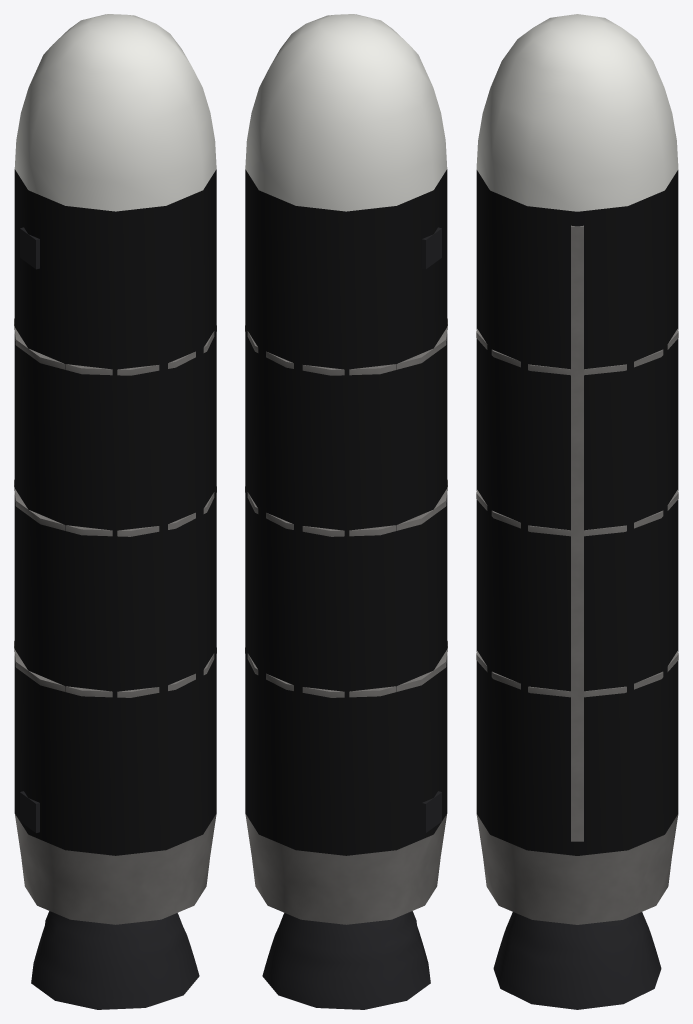
The model's file is prop21_srb_medium_strapon.glb.
3 views of the same model, side by side, from view 1: azimuth 30°, elevation 25°; view 2: azimuth 150°, elevation 25°; view 3: azimuth 270°, elevation 25° (orthographic).
Visible parts, largest first — view 1: case, nose, nozzle, aft_skirt, segment_joints, attach_fittings; view 2: case, nose, nozzle, aft_skirt, segment_joints, attach_fittings; view 3: case, nose, nozzle, aft_skirt, raceway, segment_joints.
Part boxes in pixels (x1,y1,x2,y2): case: (14, 169, 216, 855); nose: (14, 14, 216, 211); nozzle: (31, 911, 199, 1009); aft_skirt: (14, 813, 216, 924); segment_joints: (14, 318, 216, 697); attach_fittings: (20, 227, 39, 832); case: (245, 169, 447, 855); nose: (245, 14, 447, 211); nozzle: (262, 911, 430, 1009); aft_skirt: (245, 813, 447, 924); segment_joints: (245, 318, 447, 697); attach_fittings: (422, 227, 441, 832); case: (476, 170, 678, 855); nose: (476, 14, 678, 211); nozzle: (493, 912, 661, 1009); aft_skirt: (476, 814, 678, 924); raceway: (571, 225, 583, 841); segment_joints: (476, 329, 678, 697).
Size of the model in its own units: 2.51 by 13 by 2.51.
4 materials, 1 textured.
